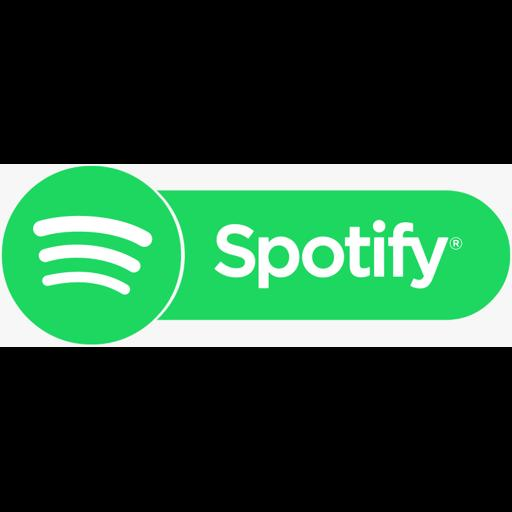Spotify: (0, 164, 512, 347)
